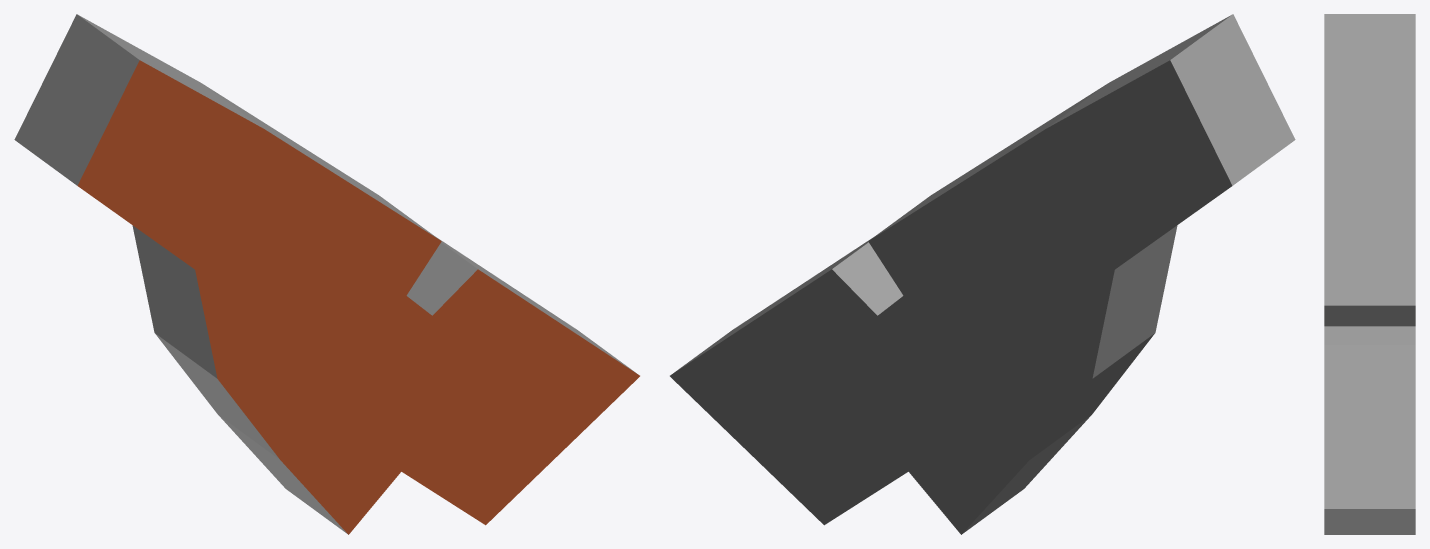
The model's file is construction_0181_assumed_A_Casa_h6m.obj.
The picture shows the model from 3 angles, left to right: view 1: azimuth 30°, elevation 25°; view 2: azimuth 150°, elevation 25°; view 3: azimuth 270°, elevation 25°; orthographic projection. The views are drawn at different scales.
Visible parts, largest first — view 1: construction_0181_assumed_A_Casa; view 2: construction_0181_assumed_A_Casa; view 3: construction_0181_assumed_A_Casa.
Part boxes in pixels (left/top/right/bottom): construction_0181_assumed_A_Casa: left=14, top=14, right=639, bottom=534; construction_0181_assumed_A_Casa: left=670, top=14, right=1295, bottom=534; construction_0181_assumed_A_Casa: left=1324, top=14, right=1415, bottom=534.
Size of the model in its own units: 30.96 by 28.89 by 6.
